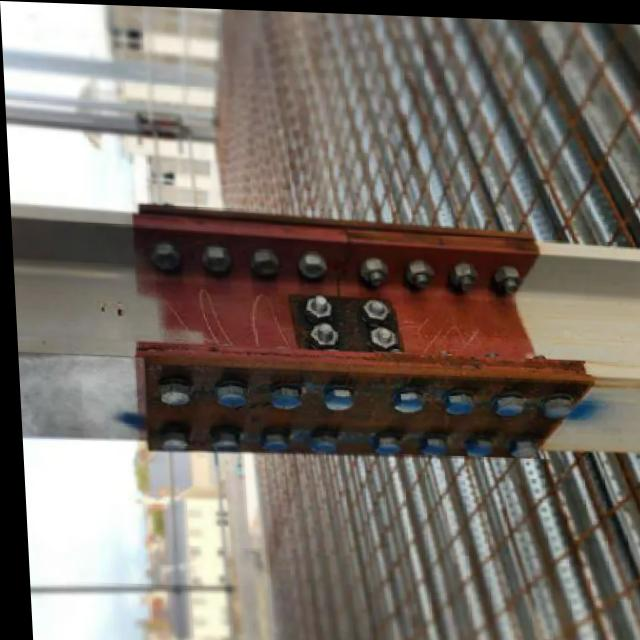Regular bolt: (402, 256, 435, 289), (452, 257, 486, 288), (355, 253, 390, 283), (491, 257, 523, 289), (368, 324, 399, 351), (304, 319, 339, 342), (300, 294, 331, 316), (359, 297, 392, 317)
